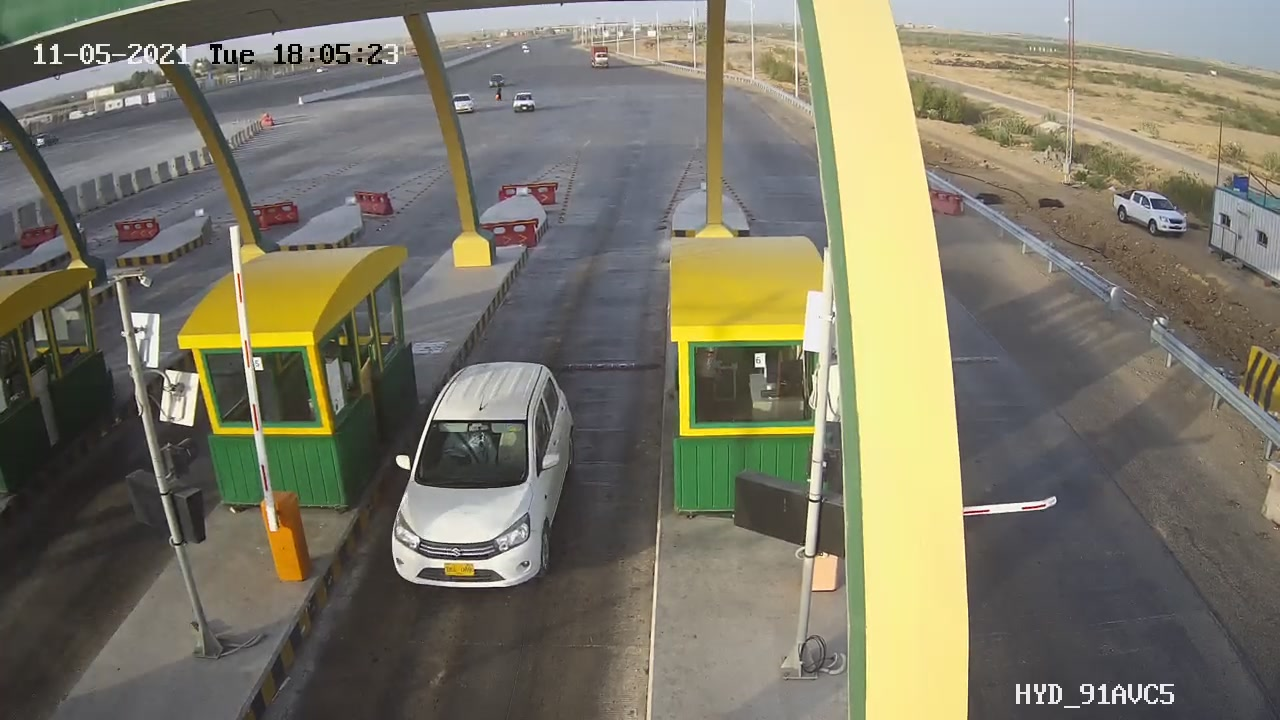F1: (381, 334, 596, 613)
